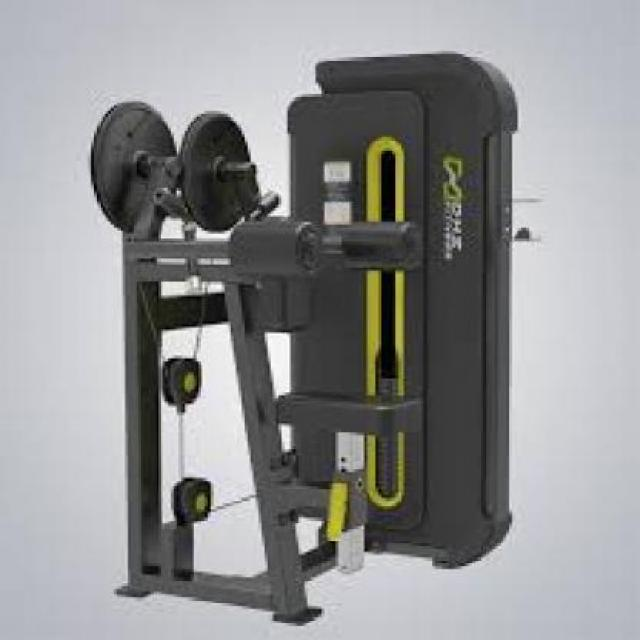lateral raises machine: (80, 53, 535, 624)
